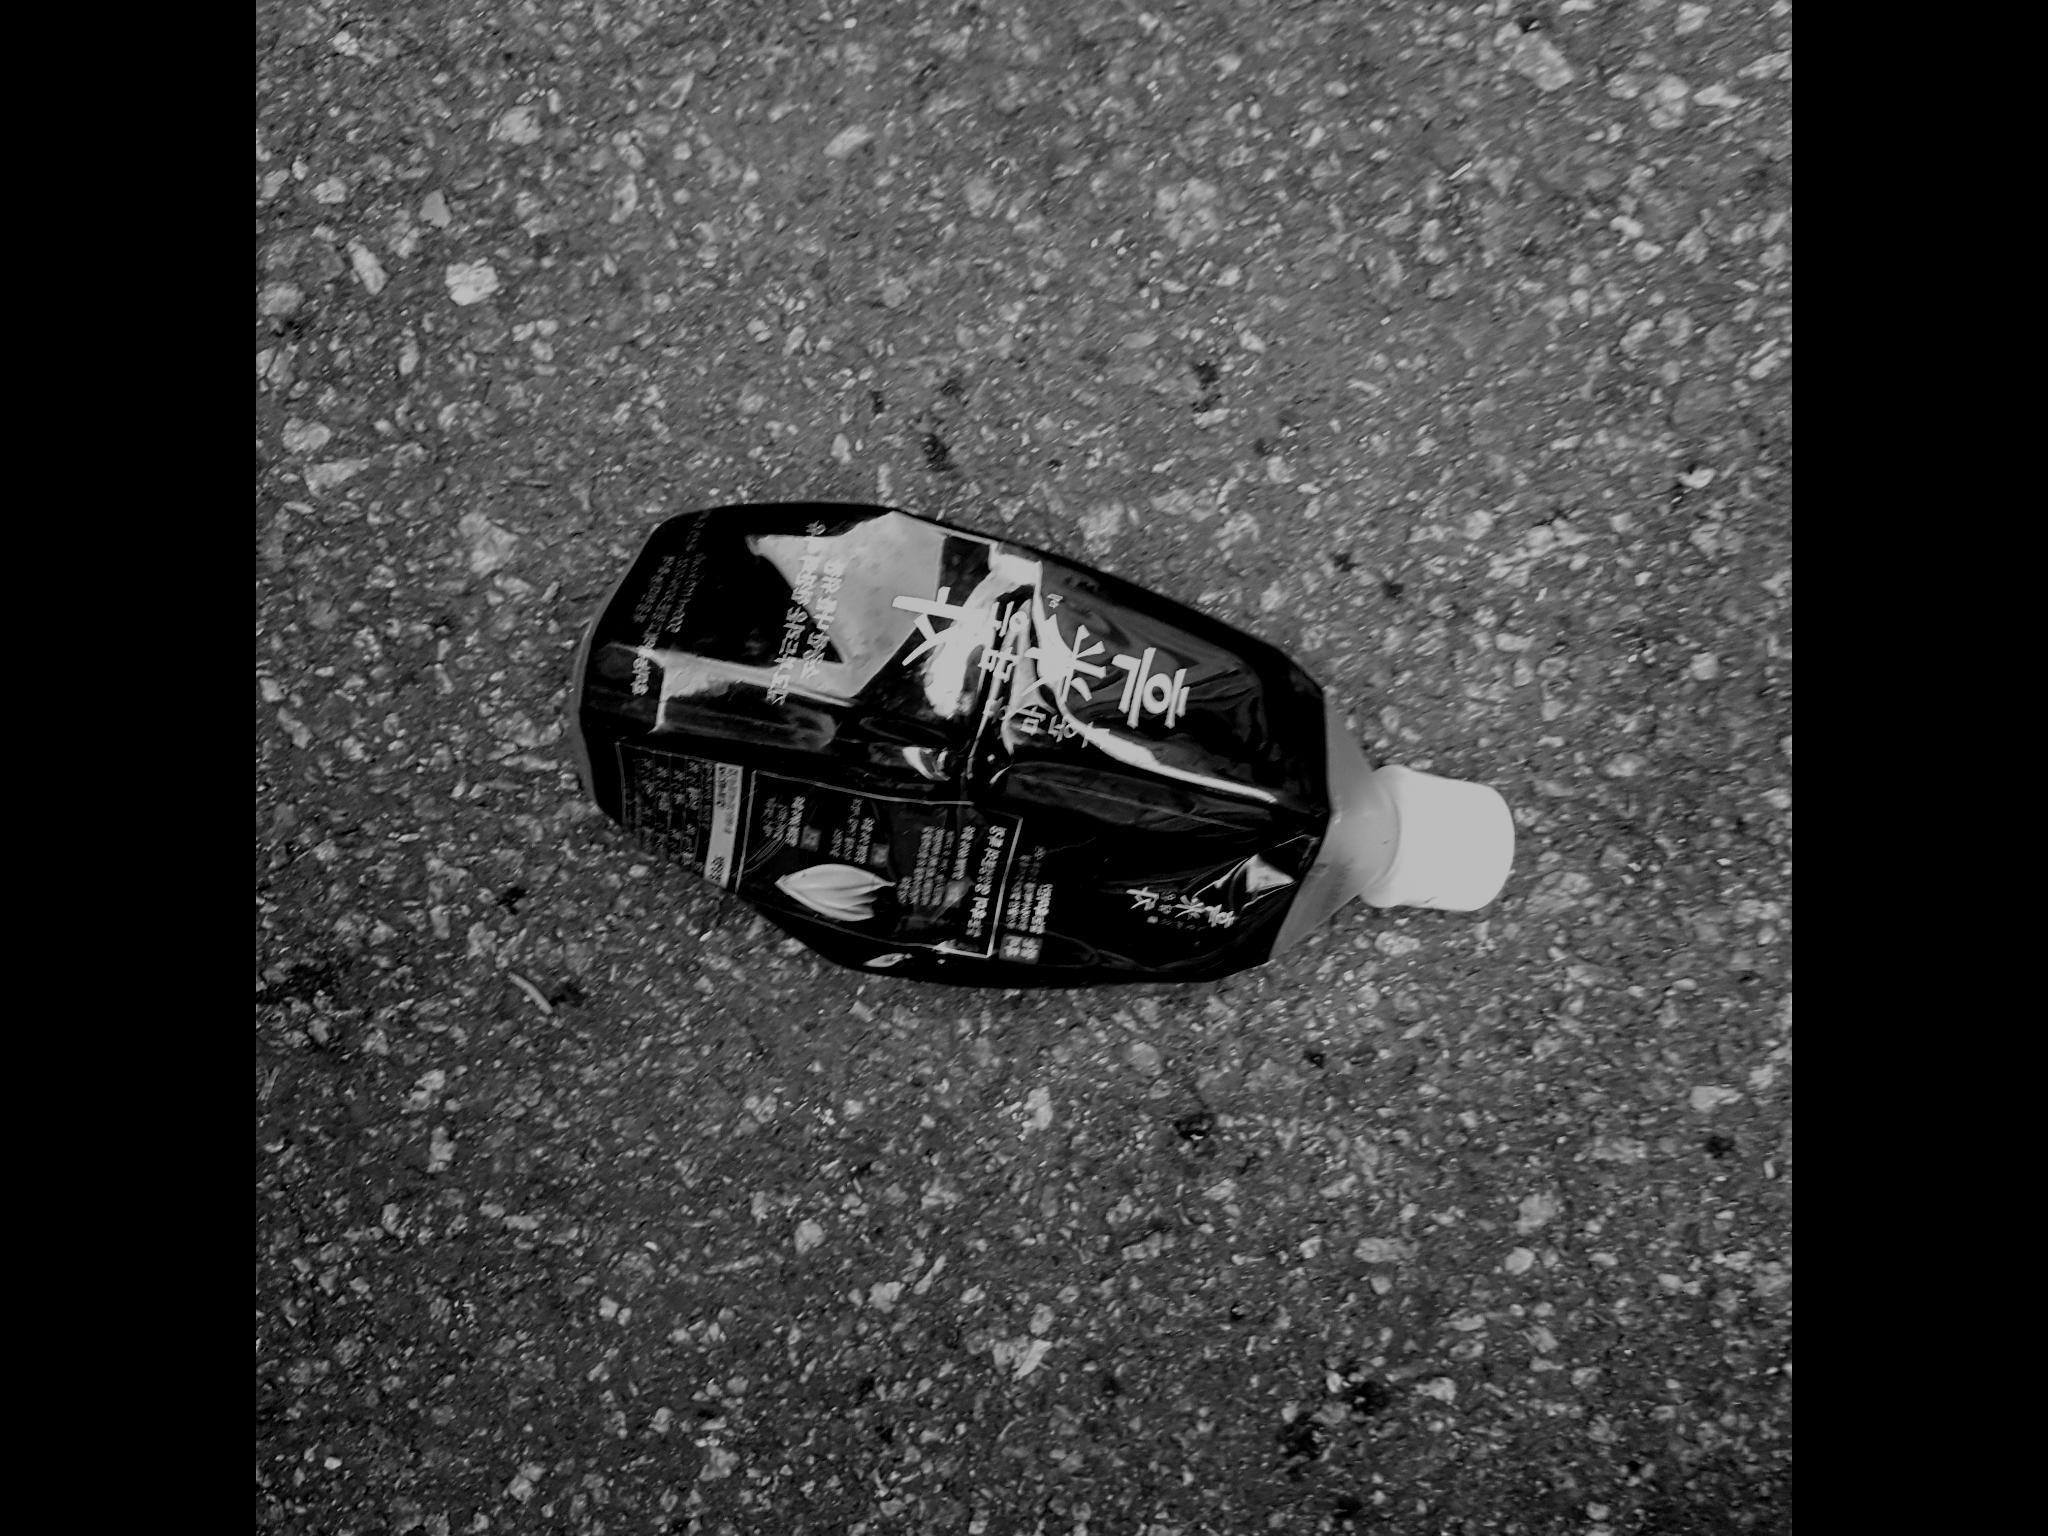bottle: (569, 494, 1517, 998)
